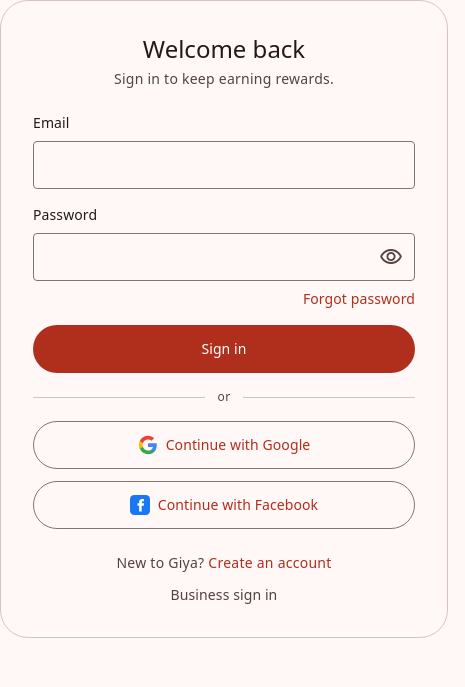
LoginPage submit › shows an inline notice when Google sign-in errors
Click the button "Continue with Google".
click(224, 445)  # box [33,421,415,469]
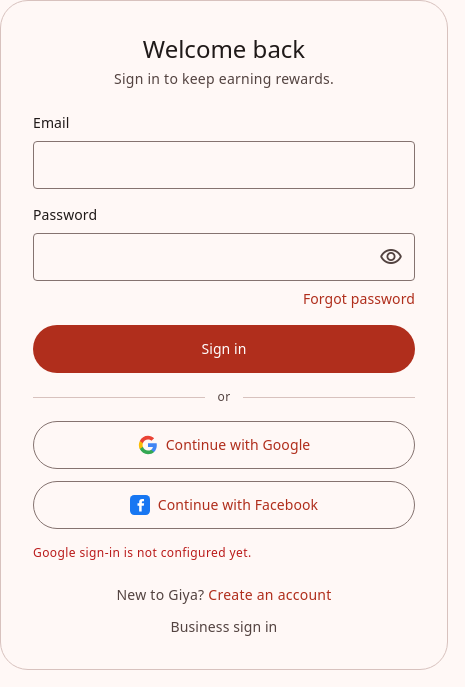
Now the text "Google sign-in is not configured yet." is shown, box [33,544,252,561]
